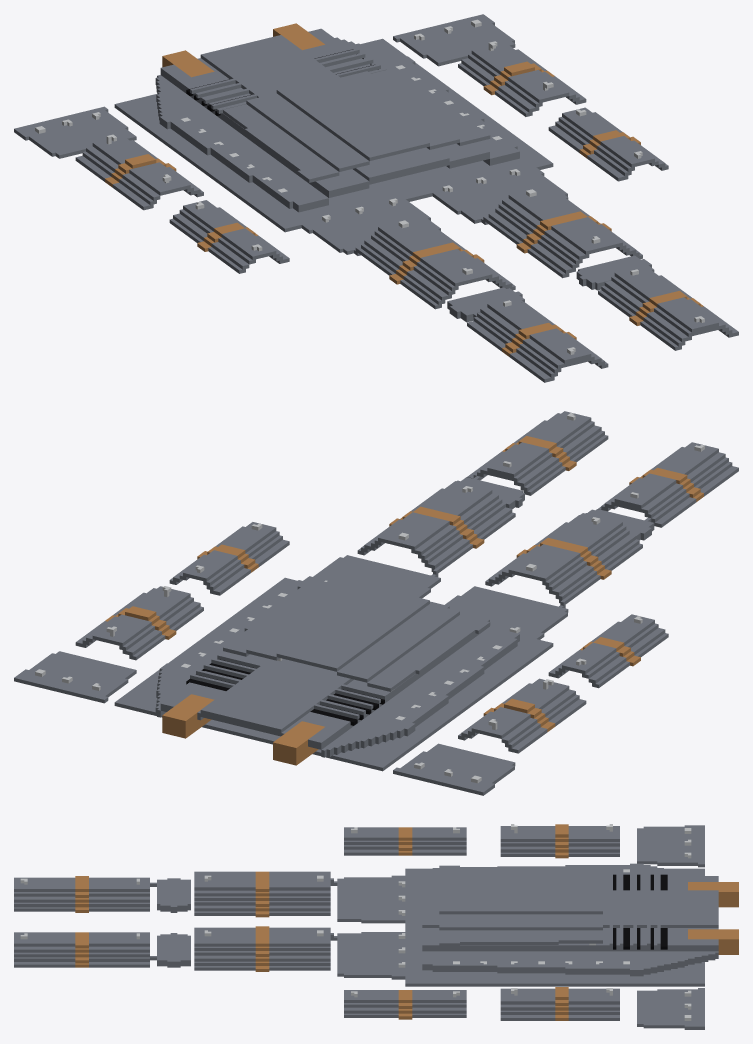
Rendered from armor_ch_metal_sheets_heavy.glb.
3 renders of one model, top to bottom at view 1: azimuth 30°, elevation 25°; view 2: azimuth 150°, elevation 25°; view 3: azimuth 270°, elevation 25°, orthographic. The views are drawn at different scales.
Visible parts, largest first — view 1: armor_ch_metal_sheets_heavy:compound; view 2: armor_ch_metal_sheets_heavy:compound; view 3: armor_ch_metal_sheets_heavy:compound.
Boxes of the visible parts, x1,y1,x2,y2 form: armor_ch_metal_sheets_heavy:compound: [14, 14, 738, 382]; armor_ch_metal_sheets_heavy:compound: [14, 411, 738, 795]; armor_ch_metal_sheets_heavy:compound: [14, 824, 738, 1029].
Bounding box in the file's own units: 0.84 × 0.06 × 1.28.
